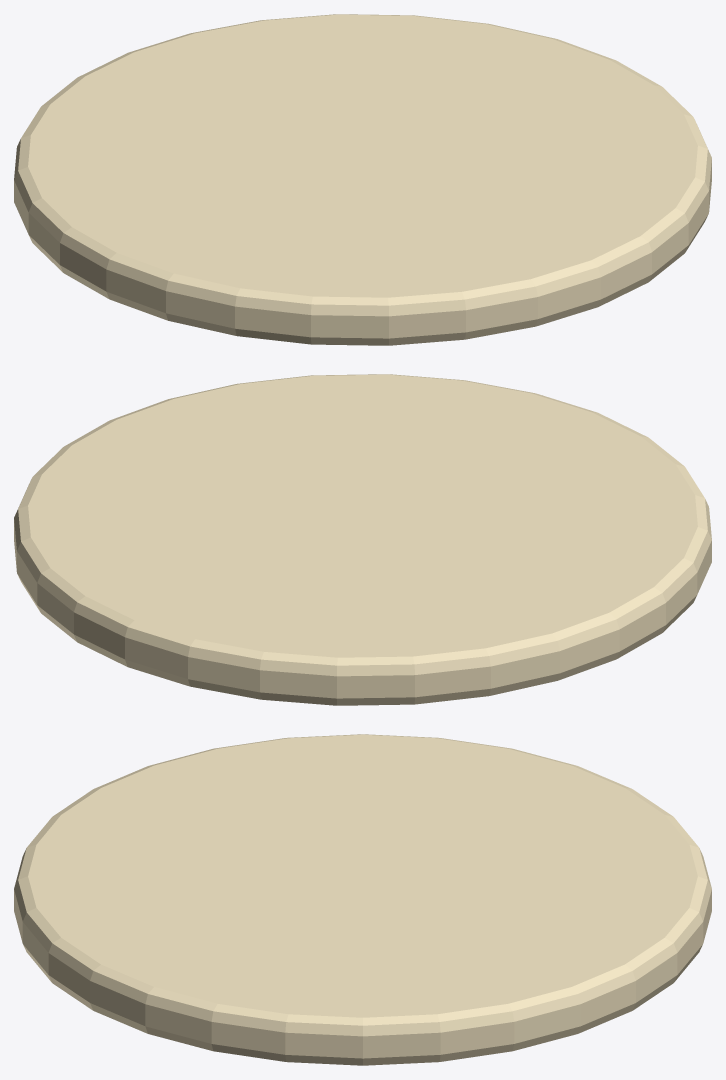
The model's file is token.glb.
3 views of the same model, one above another, from view 1: azimuth 30°, elevation 25°; view 2: azimuth 150°, elevation 25°; view 3: azimuth 270°, elevation 25° (orthographic).
Visible parts, largest first — view 1: token; view 2: token; view 3: token.
Part boxes in pixels (x1,y1,x2,y2): token: [14, 14, 711, 345]; token: [14, 374, 711, 705]; token: [14, 734, 711, 1065].
Size of the model in its own units: 0.6 by 0.045 by 0.6.
